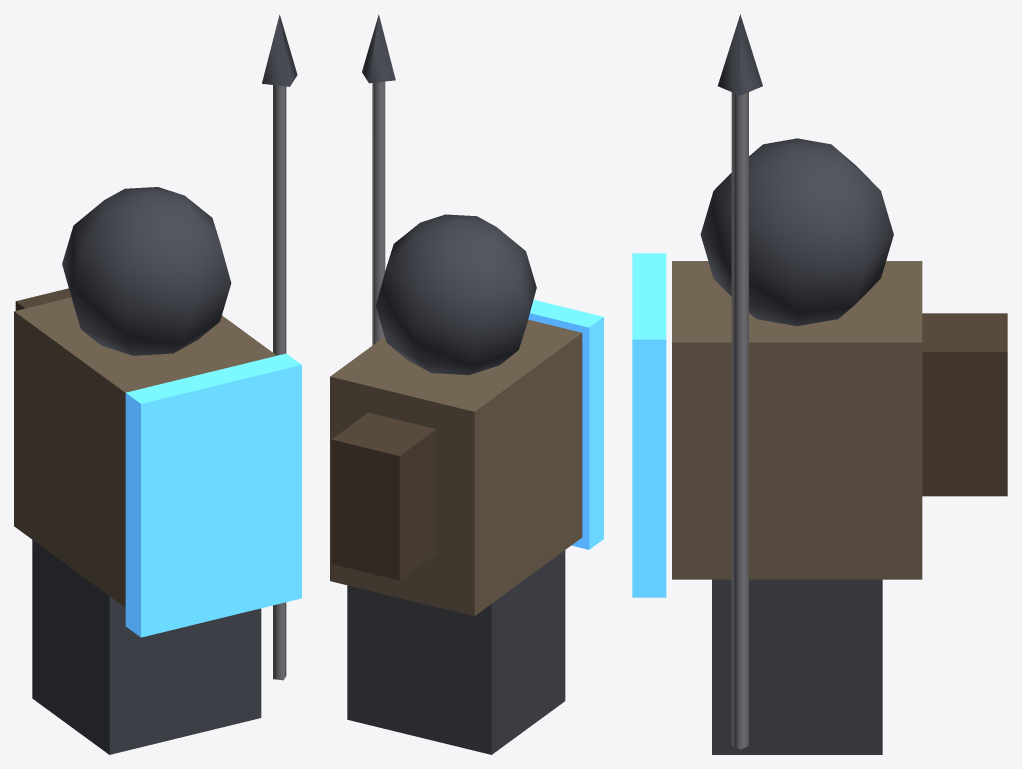
File: infantry.glb
3 renders of one model, left to right at view 1: azimuth 30°, elevation 25°; view 2: azimuth 150°, elevation 25°; view 3: azimuth 270°, elevation 25°, orthographic. The views are drawn at different scales.
Visible parts, largest first — view 1: infantry; view 2: infantry; view 3: infantry.
Boxes of the visible parts, bbox=[...] form: infantry: bbox=[14, 14, 301, 754]; infantry: bbox=[330, 14, 603, 754]; infantry: bbox=[632, 14, 1007, 754].
Bounding box in the file's own units: 0.46 × 1.47 × 0.66.
